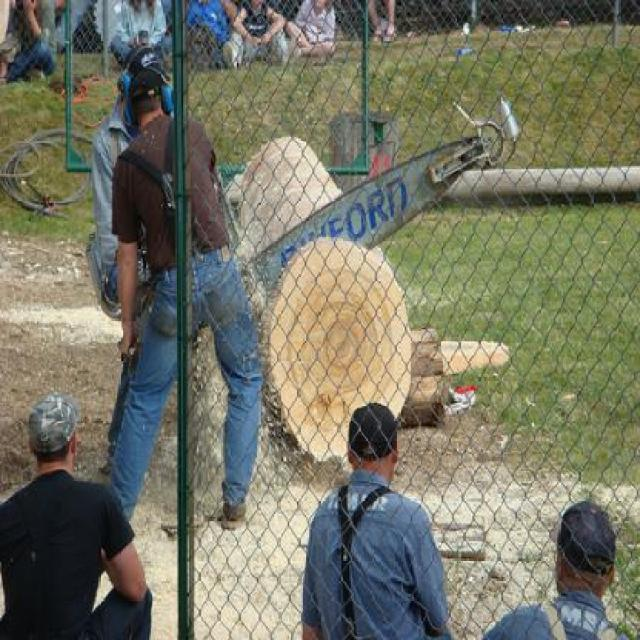Chainsaw: (88, 90, 522, 358)
